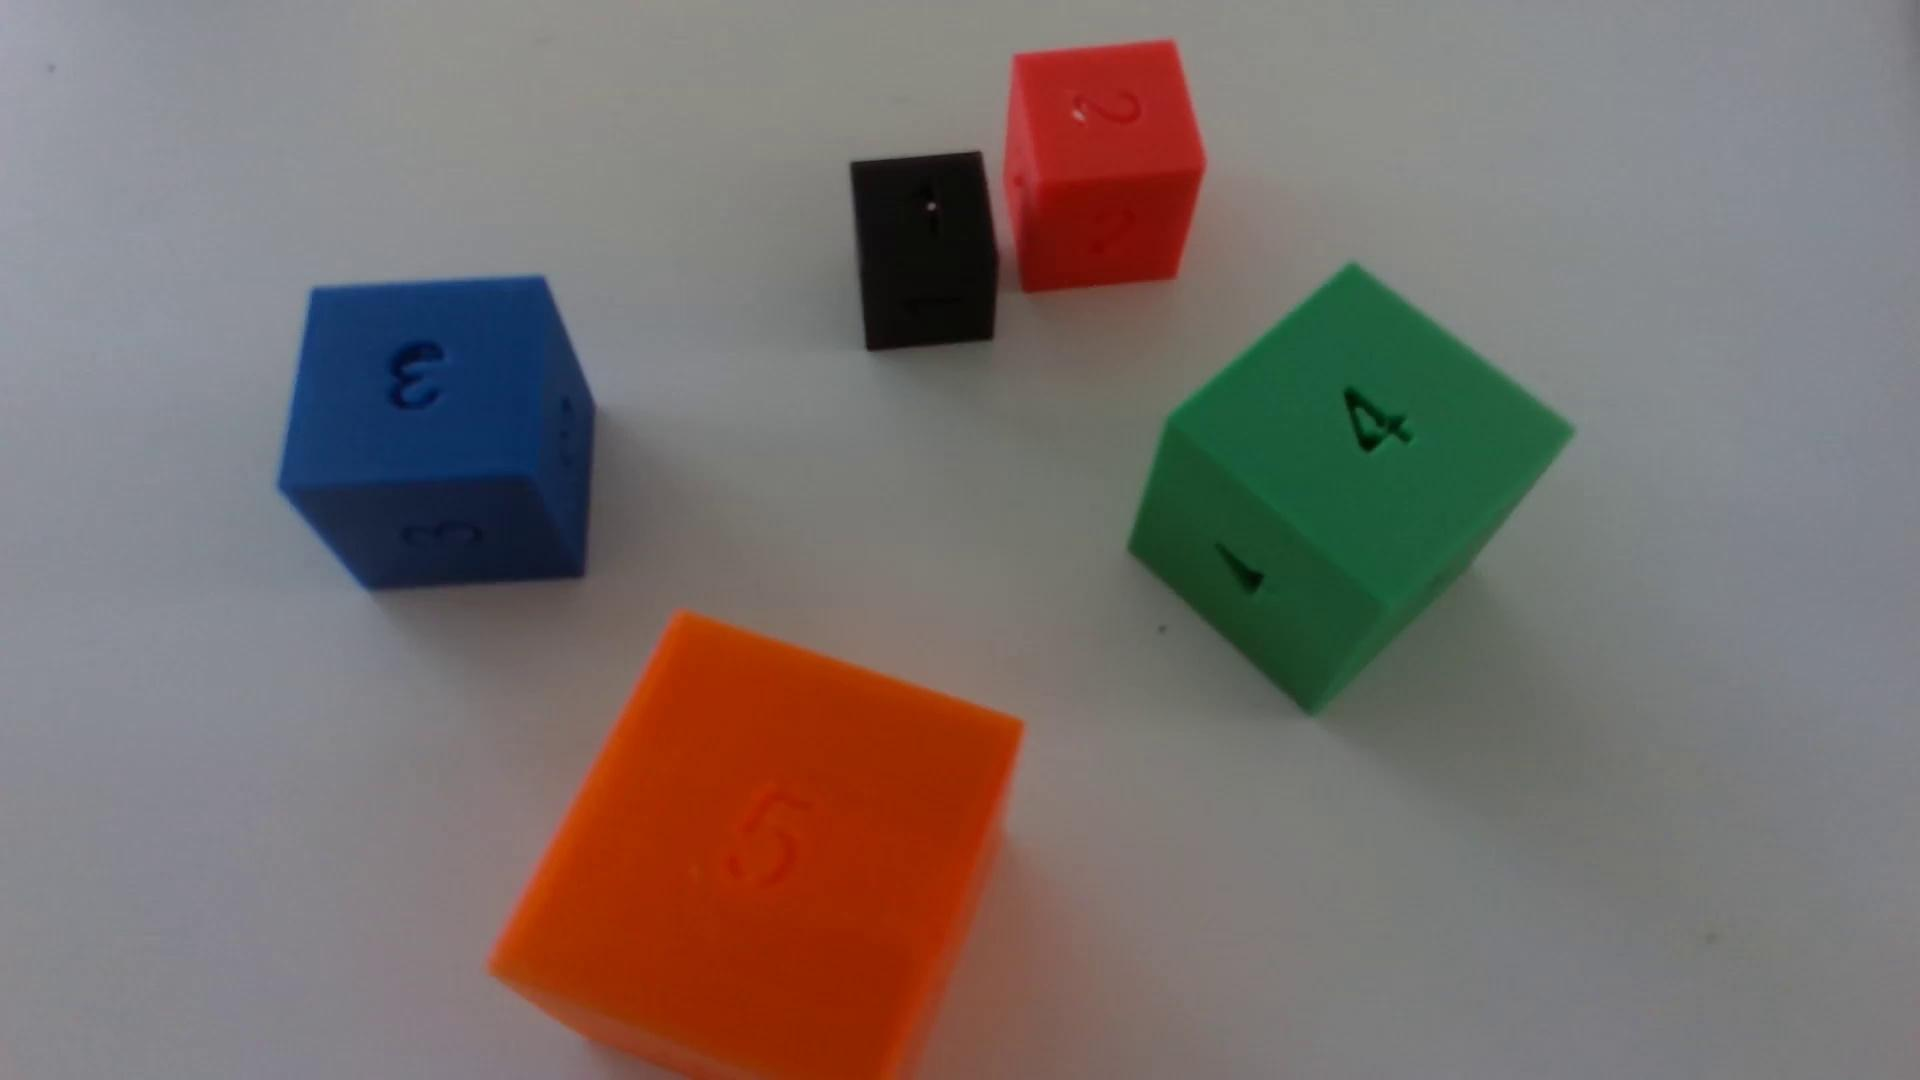black: (849, 152, 1000, 353)
blue: (277, 277, 595, 592)
green: (1129, 266, 1571, 713)
orange: (491, 615, 1022, 1080)
red: (1004, 41, 1205, 295)
